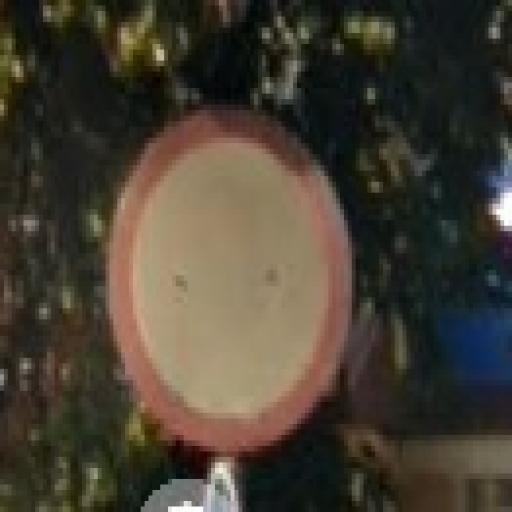traffic_sign: (107, 106, 353, 453)
